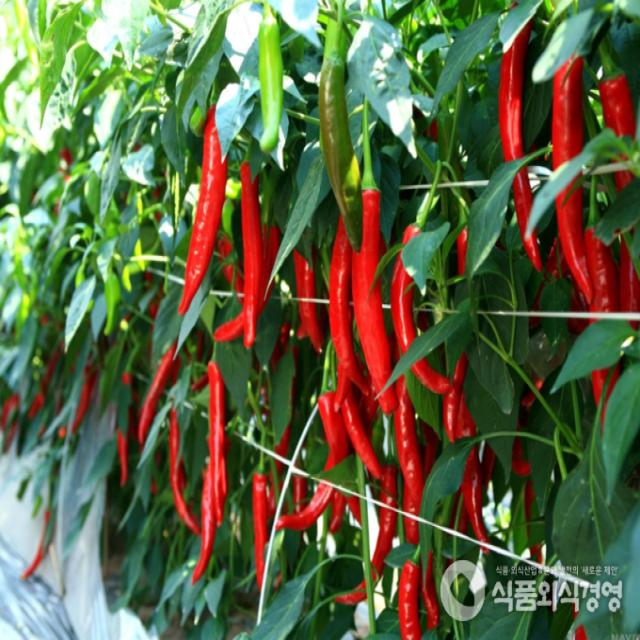chili: (179, 106, 228, 314), (352, 189, 392, 393), (330, 217, 369, 392), (555, 183, 594, 304), (499, 20, 532, 161), (394, 375, 425, 514), (241, 159, 262, 348), (552, 57, 582, 169), (209, 362, 228, 524), (512, 167, 541, 270), (391, 254, 416, 353), (371, 507, 396, 582), (254, 473, 269, 588), (412, 360, 450, 393), (335, 579, 366, 603), (381, 465, 396, 506), (379, 385, 398, 414), (402, 226, 420, 243)
